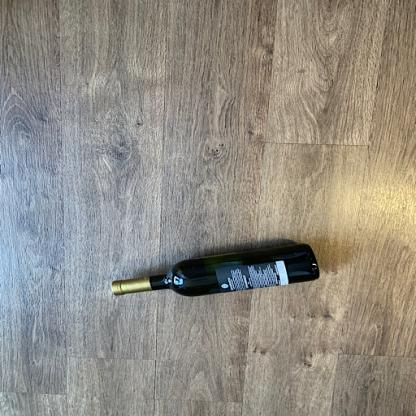trash: (109, 243, 327, 300)
